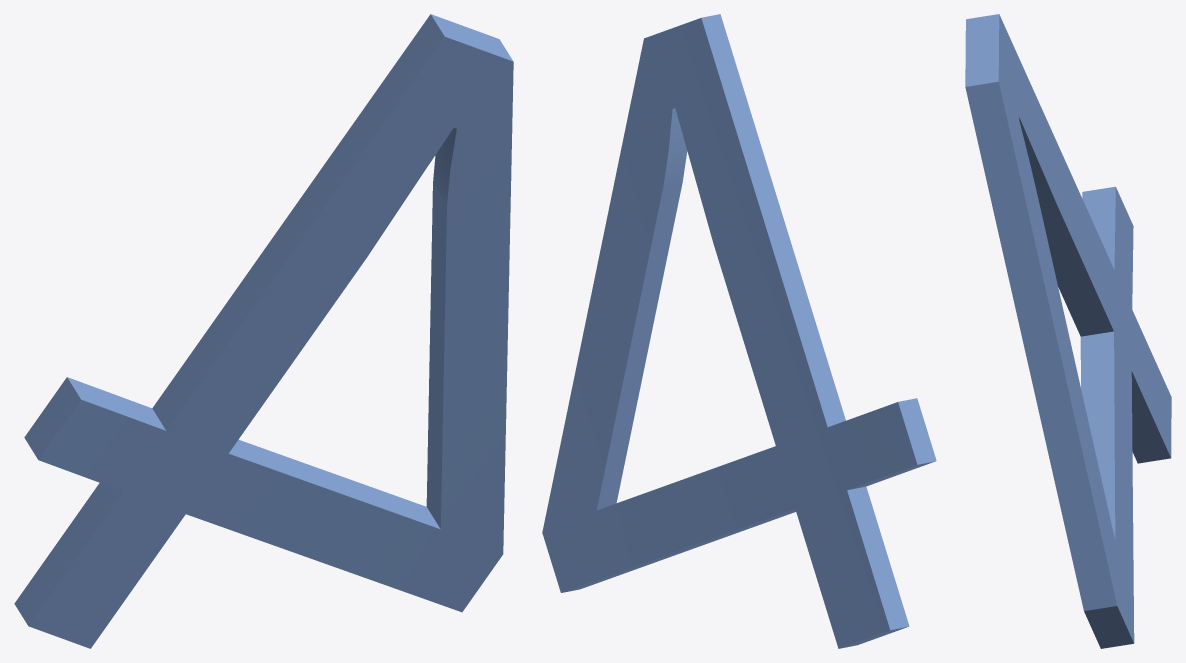
File: Number_4.gltf
3 views of the same model, side by side, from view 1: azimuth 30°, elevation 25°; view 2: azimuth 150°, elevation 25°; view 3: azimuth 270°, elevation 25° (orthographic). The views are drawn at different scales.
Visible parts, largest first — view 1: Sub_5_Cell_3_2_Number_4; view 2: Sub_5_Cell_3_2_Number_4; view 3: Sub_5_Cell_3_2_Number_4.
Part boxes in pixels (box(x1,y1,x2,y2)): Sub_5_Cell_3_2_Number_4: box(14, 14, 513, 648); Sub_5_Cell_3_2_Number_4: box(542, 14, 936, 648); Sub_5_Cell_3_2_Number_4: box(965, 14, 1171, 648).
Size of the model in its own units: 0.0176 by 0.0242 by 0.00757.
